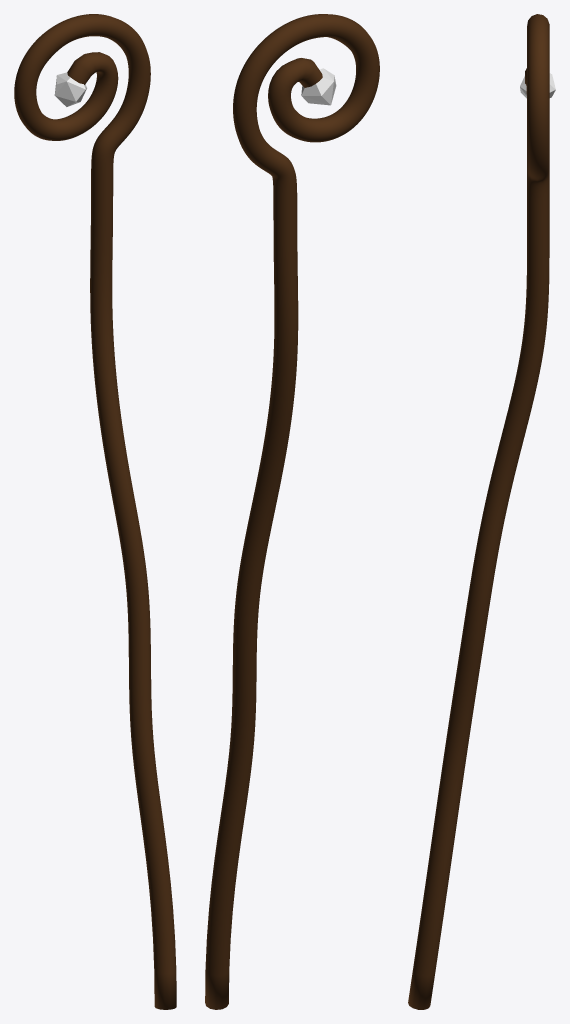
File: wooden staff.fbx
The picture shows the model from 3 angles, left to right: view 1: azimuth 30°, elevation 25°; view 2: azimuth 210°, elevation 25°; view 3: azimuth 270°, elevation 25°; orthographic projection. The views are drawn at different scales.
Parts seen in each view (by area): view 1: NurbsPath; view 2: NurbsPath; view 3: NurbsPath.
Part boxes in pixels (left/top/right/bottom): NurbsPath: left=14, top=14, right=176, bottom=1009; NurbsPath: left=205, top=14, right=379, bottom=1009; NurbsPath: left=408, top=14, right=555, bottom=1009.
Size of the model in its own units: 458 by 3130 by 432.
